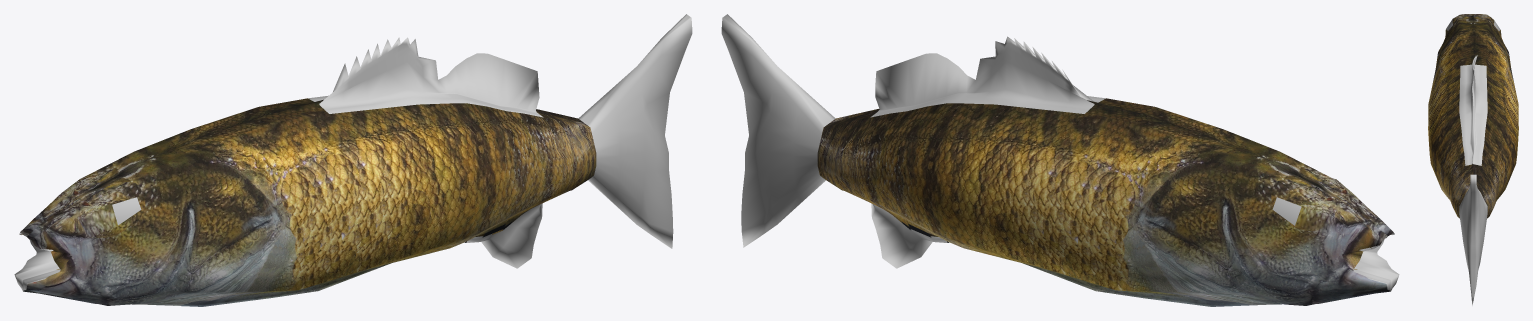
Rendered from brakbasuu.fbx.
The picture shows the model from 3 angles, left to right: view 1: azimuth 30°, elevation 25°; view 2: azimuth 150°, elevation 25°; view 3: azimuth 270°, elevation 25°; orthographic projection. The views are drawn at different scales.
Visible parts, largest first — view 1: sake; view 2: sake; view 3: sake.
Boxes of the visible parts, box(x1,y1,x2,y2) form: sake: box(14, 14, 692, 306); sake: box(721, 14, 1399, 306); sake: box(1428, 14, 1518, 305).
Bounding box in the file's own units: 190 × 75.23 × 37.02.
